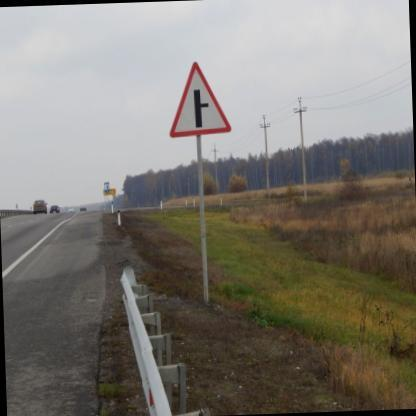road_sign: (171, 62, 232, 137)
